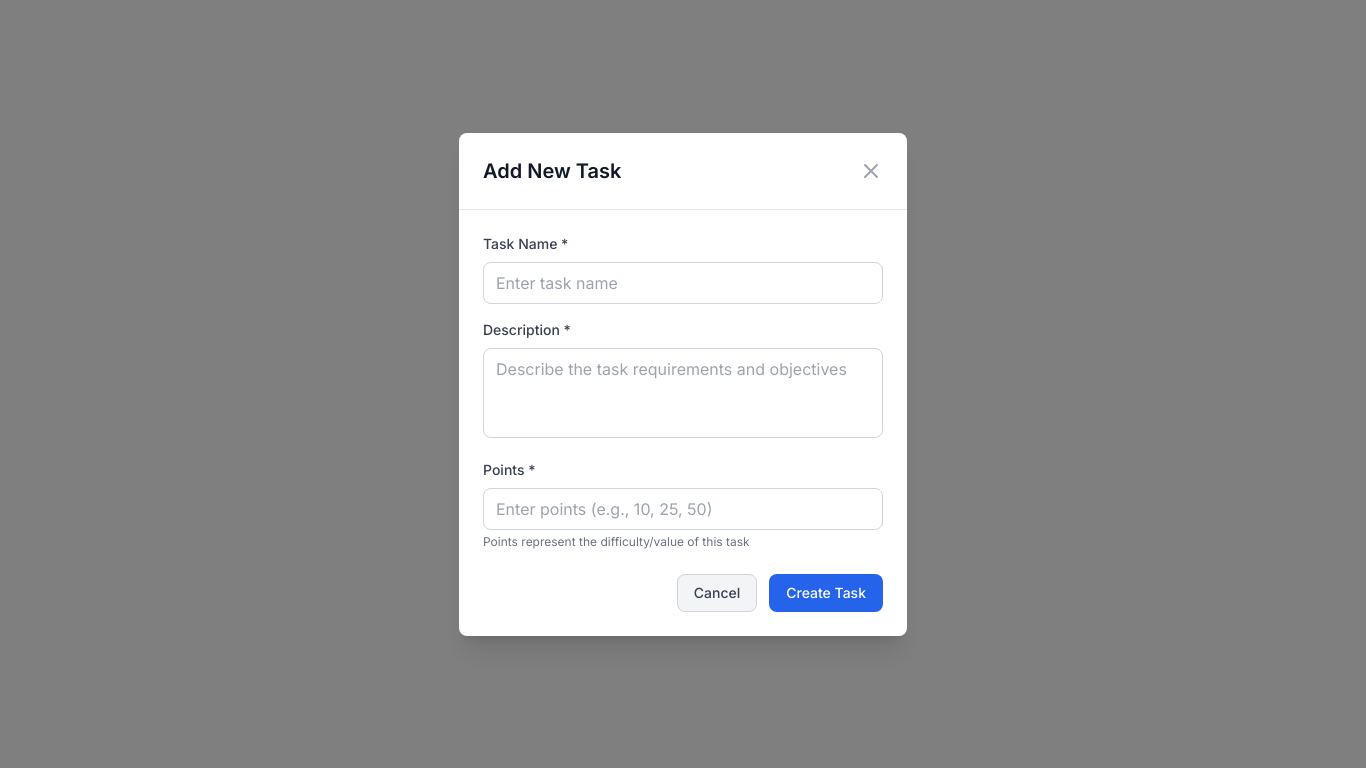
Test: AddTaskModal › Form Interactions › clears field errors when user starts typing
# Submit form to trigger validation
Click the button "Create Task" at (826, 592), box [769,574,883,612]
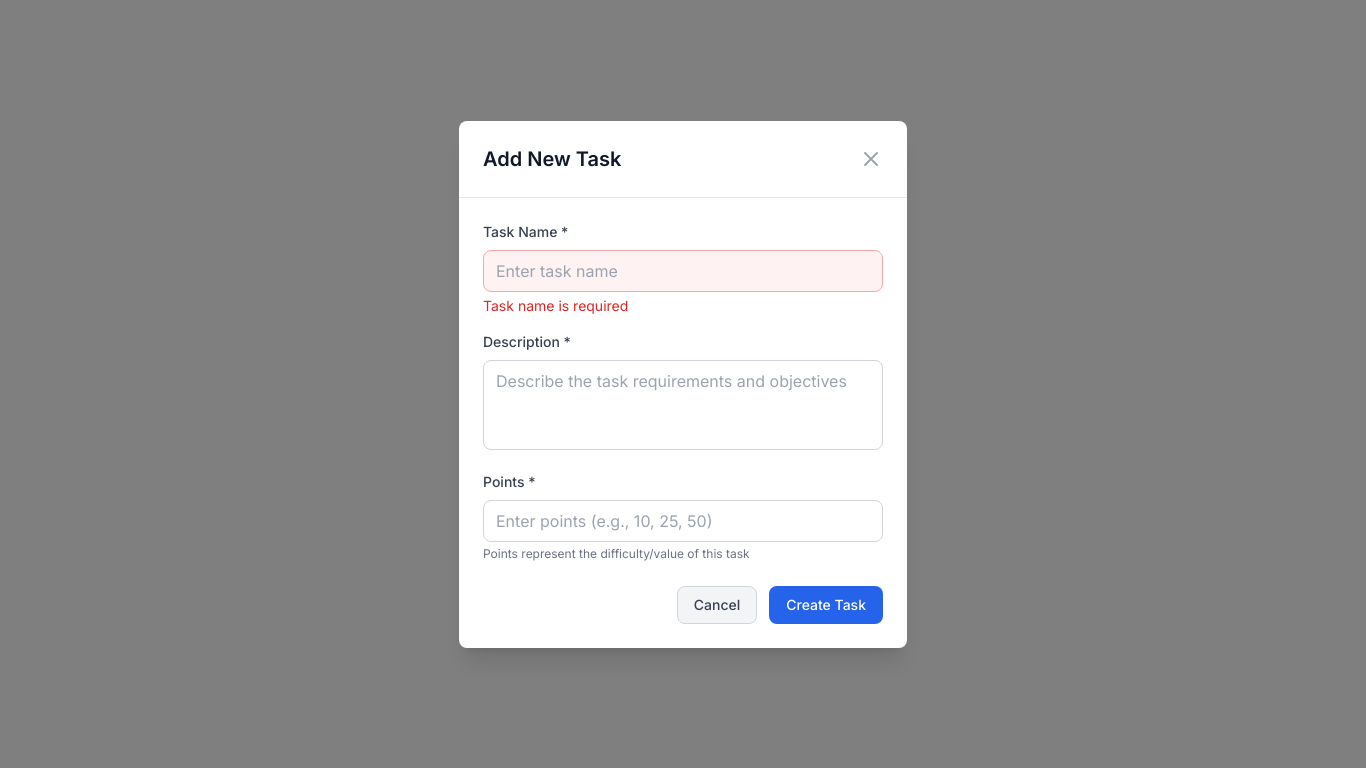
Check: the text "Task name is required" is shown, box [483,296,628,314]
# Start typing in name field
Type "Test" into the field labelled "Task Name *" at (683, 270), box [483,250,883,292]
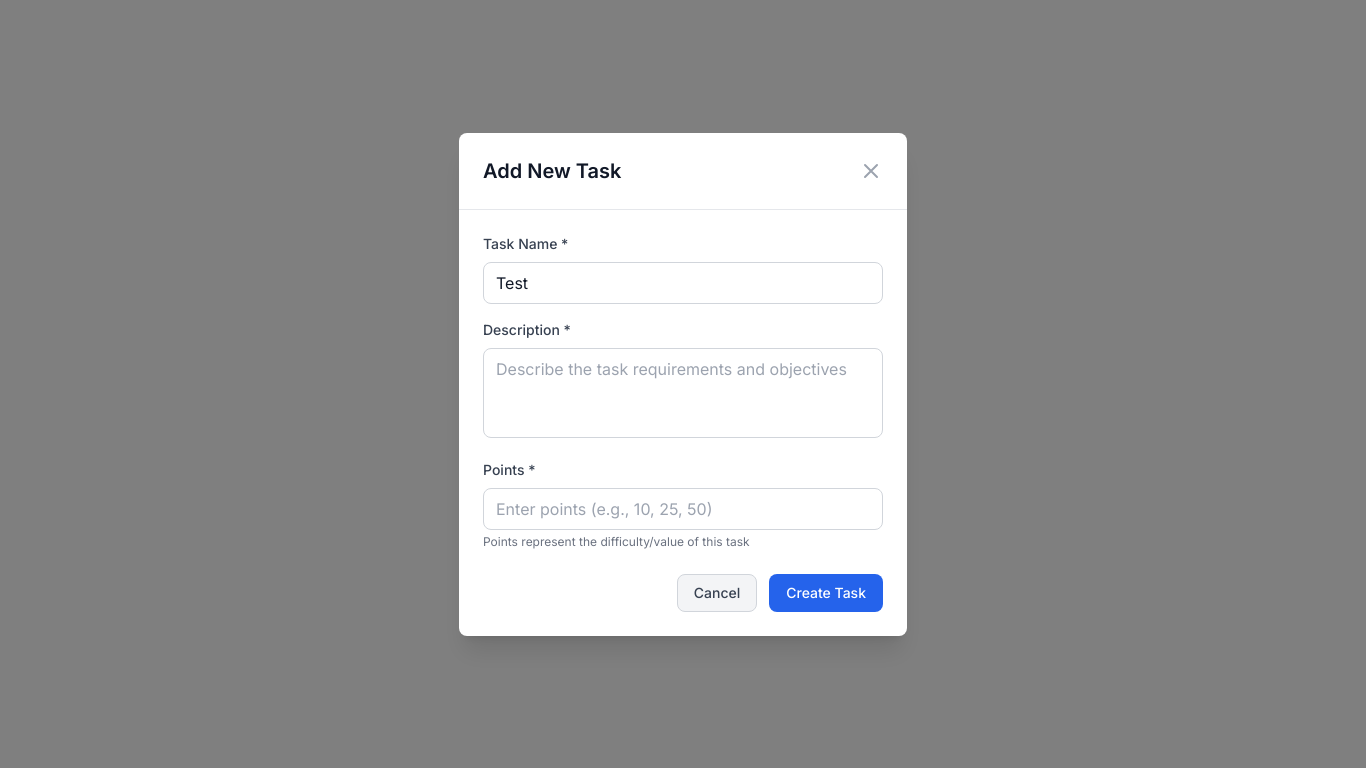
Check: the text "Task name is required" is gone
